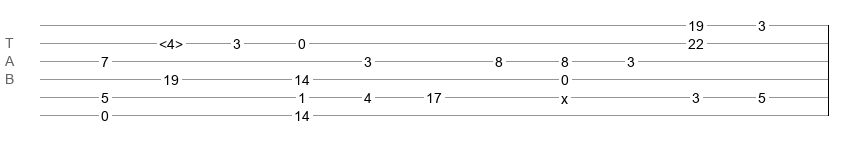0: (101, 108, 109, 118), (298, 36, 306, 46), (561, 72, 569, 82)
1: (298, 90, 306, 100)
14: (294, 108, 310, 118), (294, 72, 310, 82)
17: (426, 90, 442, 100)
19: (163, 72, 179, 82), (688, 18, 704, 28)
22: (688, 36, 704, 46)
3: (233, 36, 241, 46), (364, 54, 372, 64), (627, 54, 635, 64), (692, 90, 700, 100), (758, 18, 766, 28)
4: (364, 90, 372, 100)
5: (101, 90, 109, 100), (758, 90, 766, 100)
7: (101, 54, 109, 64)
8: (495, 54, 503, 64), (561, 54, 569, 64)
harmonic: (159, 36, 183, 46)
x: (561, 91, 568, 99)
